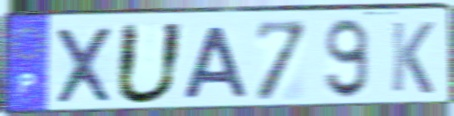7: (254, 17, 309, 103)
9: (322, 16, 372, 102)
A: (180, 25, 251, 102)
K: (388, 19, 437, 97)
U: (111, 21, 188, 108)
X: (52, 24, 116, 107)
